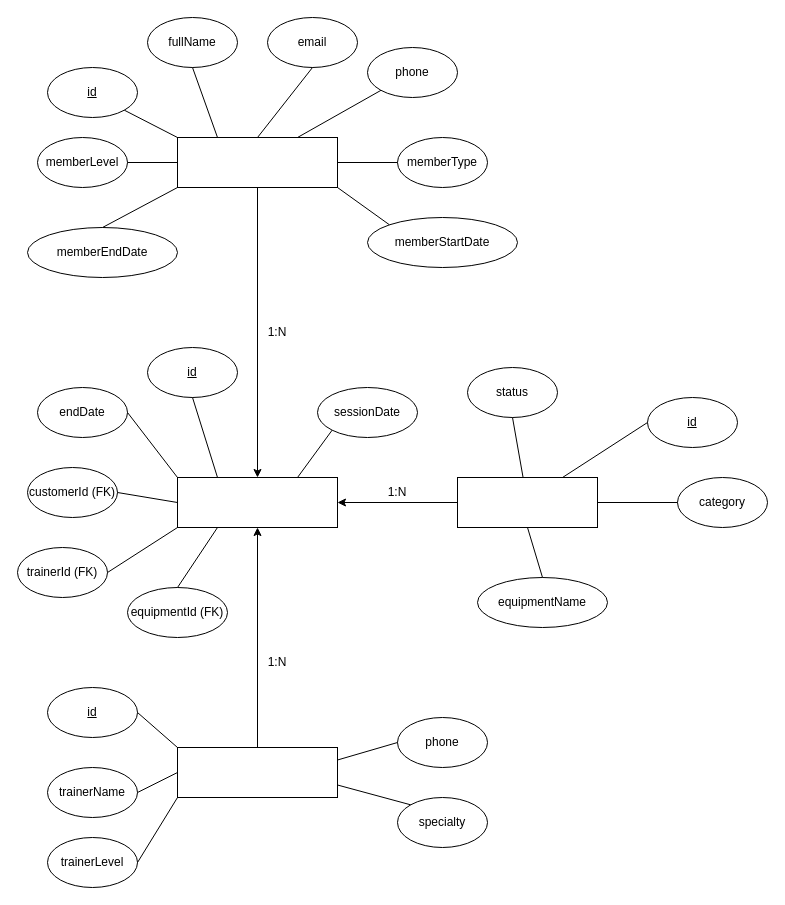
This 785x905 diagram has some shape labels left out. The centre of each missing label's shape, as x and y in pixels:
Customers: [257,162]
GymEquipments: [527,502]
Trainers: [257,772]
TrainingSessions: [257,502]
